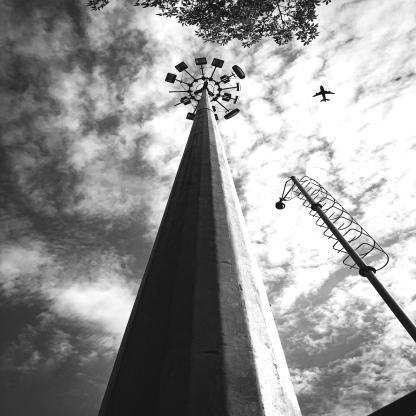light_pole: (274, 176, 416, 342)
